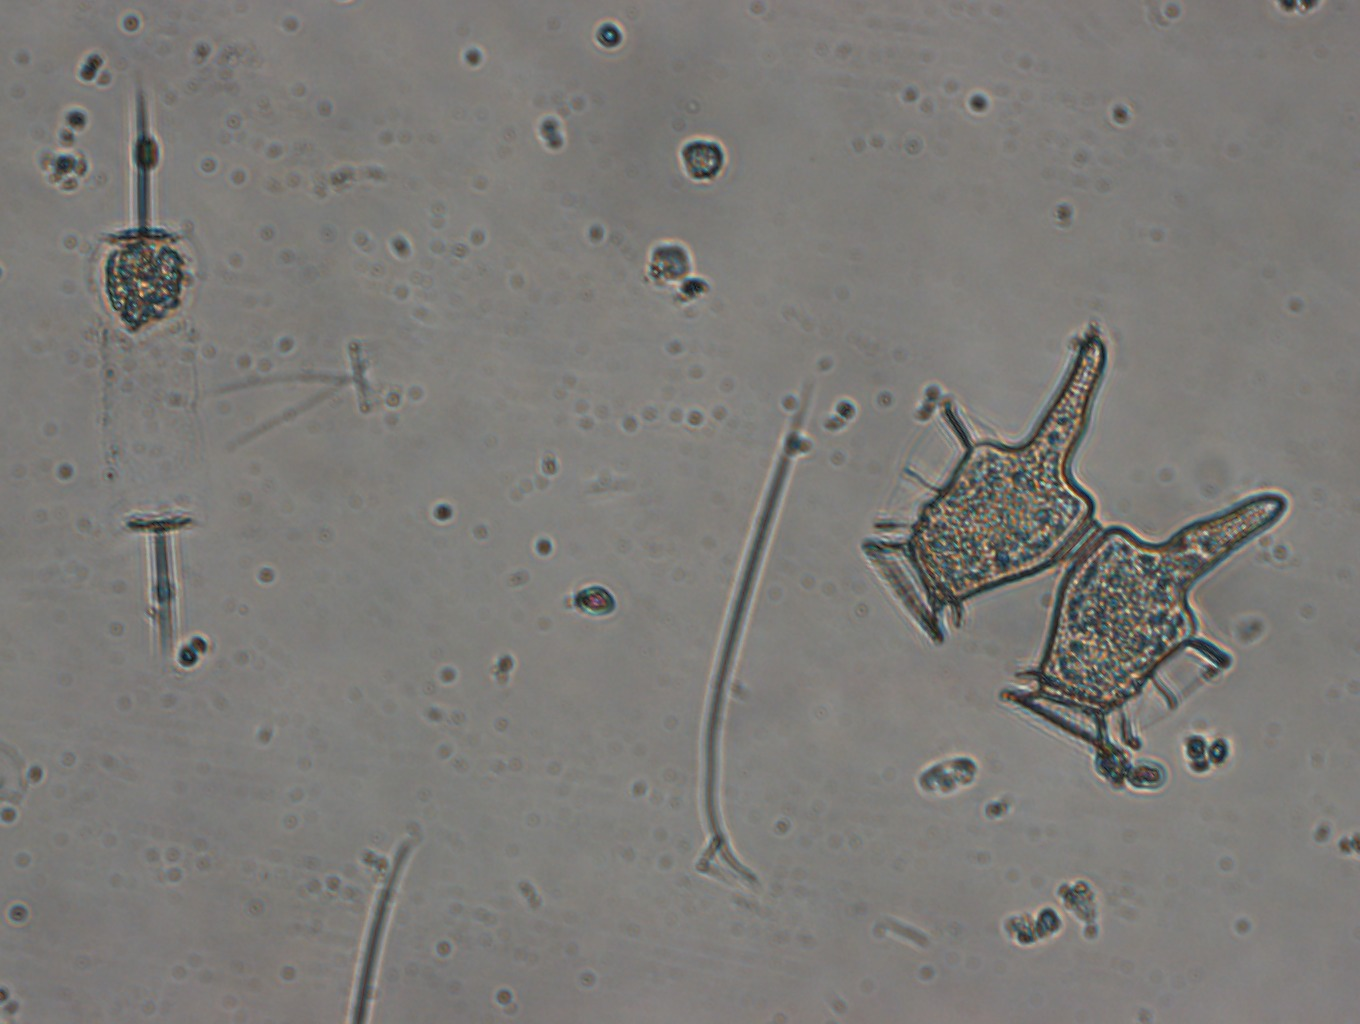dinophysis caudata: (864, 309, 1298, 759)
